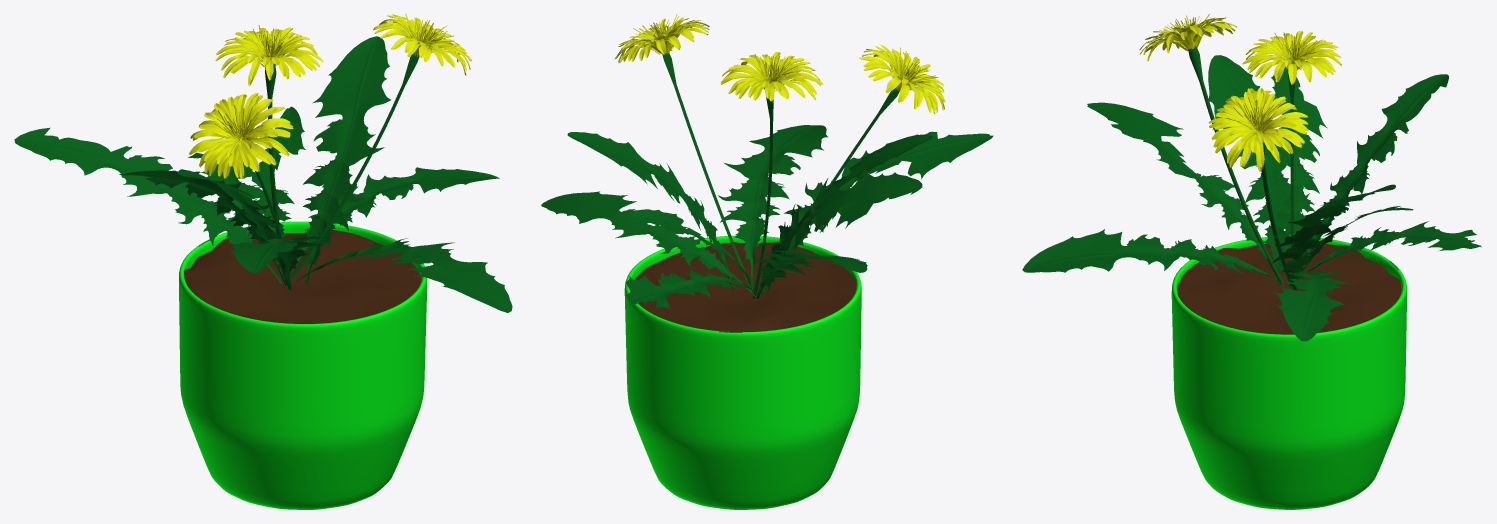
File: dandelion.gltf
The picture shows the model from 3 angles, left to right: view 1: azimuth 30°, elevation 25°; view 2: azimuth 150°, elevation 25°; view 3: azimuth 270°, elevation 25°; orthographic projection. The views are drawn at different scales.
Parts seen in each view (by area): view 1: Pot, Dandelion; view 2: Pot, Dandelion; view 3: Pot, Dandelion.
Part boxes in pixels (box(x1,y1,x2,y2)): Pot: box(179, 221, 427, 509); Dandelion: box(14, 14, 512, 312); Pot: box(624, 235, 861, 509); Dandelion: box(541, 14, 993, 308); Pot: box(1171, 237, 1406, 509); Dandelion: box(1022, 14, 1481, 341).
Size of the model in its own units: 0.9709 by 1.02 by 0.9944.
